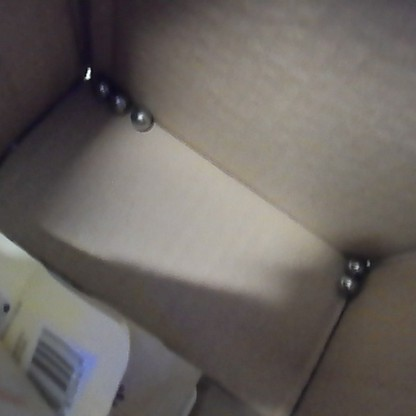ironball: (333, 273, 359, 299), (103, 86, 127, 114), (342, 252, 367, 278), (129, 106, 153, 133), (88, 75, 111, 100)
